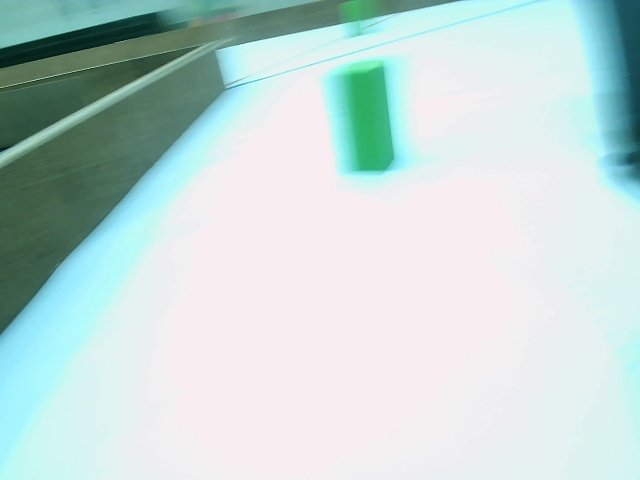green: (334, 60, 397, 176)
